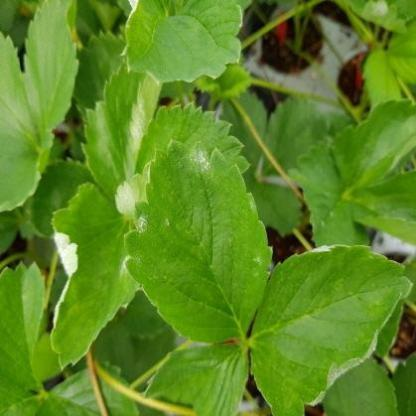Strawberry_Powdery_Mildew_Leaf: (122, 139, 274, 344), (248, 243, 414, 415), (50, 181, 141, 372), (115, 100, 250, 218), (80, 58, 162, 206)
